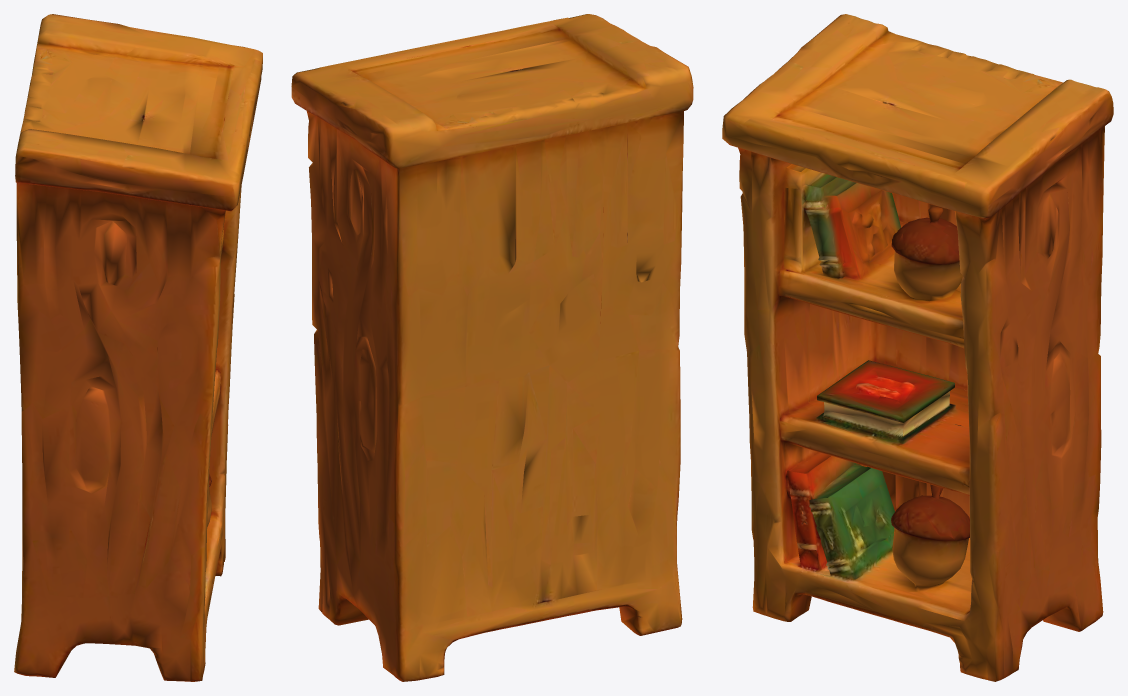
The model's file is regal_wald_a.glb.
The picture shows the model from 3 angles, left to right: view 1: azimuth 30°, elevation 25°; view 2: azimuth 150°, elevation 25°; view 3: azimuth 270°, elevation 25°; orthographic projection. The views are drawn at different scales.
Visible parts, largest first — view 1: tripo_node_f86ee68d-888b-4679-8869-cdd11366020c; view 2: tripo_node_f86ee68d-888b-4679-8869-cdd11366020c; view 3: tripo_node_f86ee68d-888b-4679-8869-cdd11366020c.
Part boxes in pixels (box(x1,y1,x2,y2)): tripo_node_f86ee68d-888b-4679-8869-cdd11366020c: box(14, 14, 262, 681); tripo_node_f86ee68d-888b-4679-8869-cdd11366020c: box(291, 14, 693, 681); tripo_node_f86ee68d-888b-4679-8869-cdd11366020c: box(722, 14, 1113, 681).
Bounding box in the file's own units: 0.6198 × 1 × 0.6635.
1 material, 1 textured.
